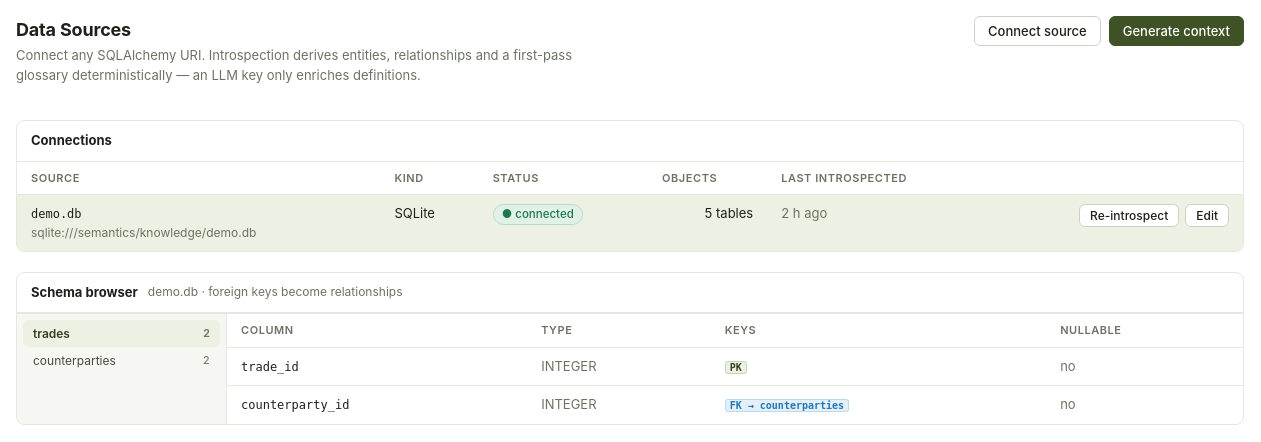
Test: switching tables shows that table's own columns
Click the option "counterparties 2".
click(122, 360)  # box [23,347,220,374]
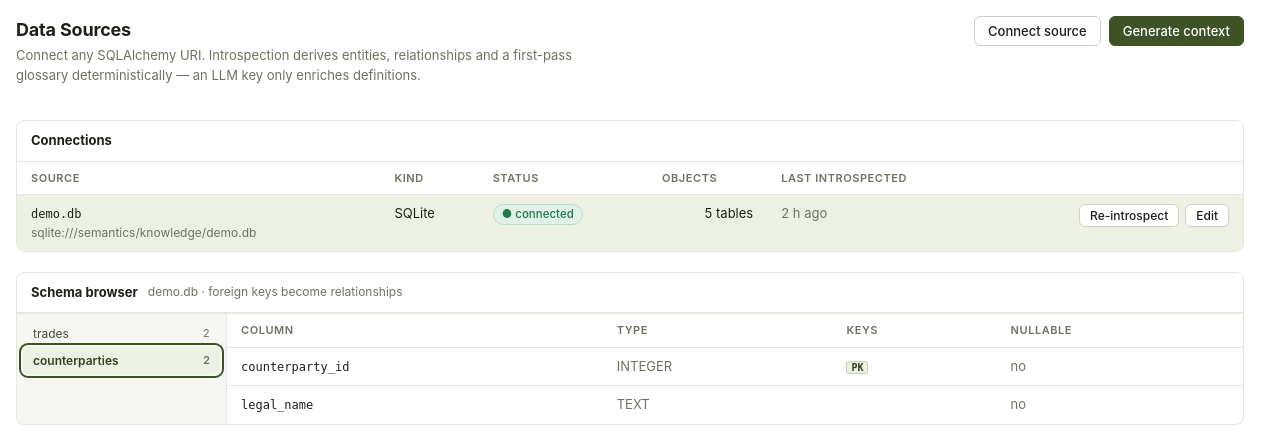
Expected: the cell "legal_name" is shown, [227,386,603,424]
